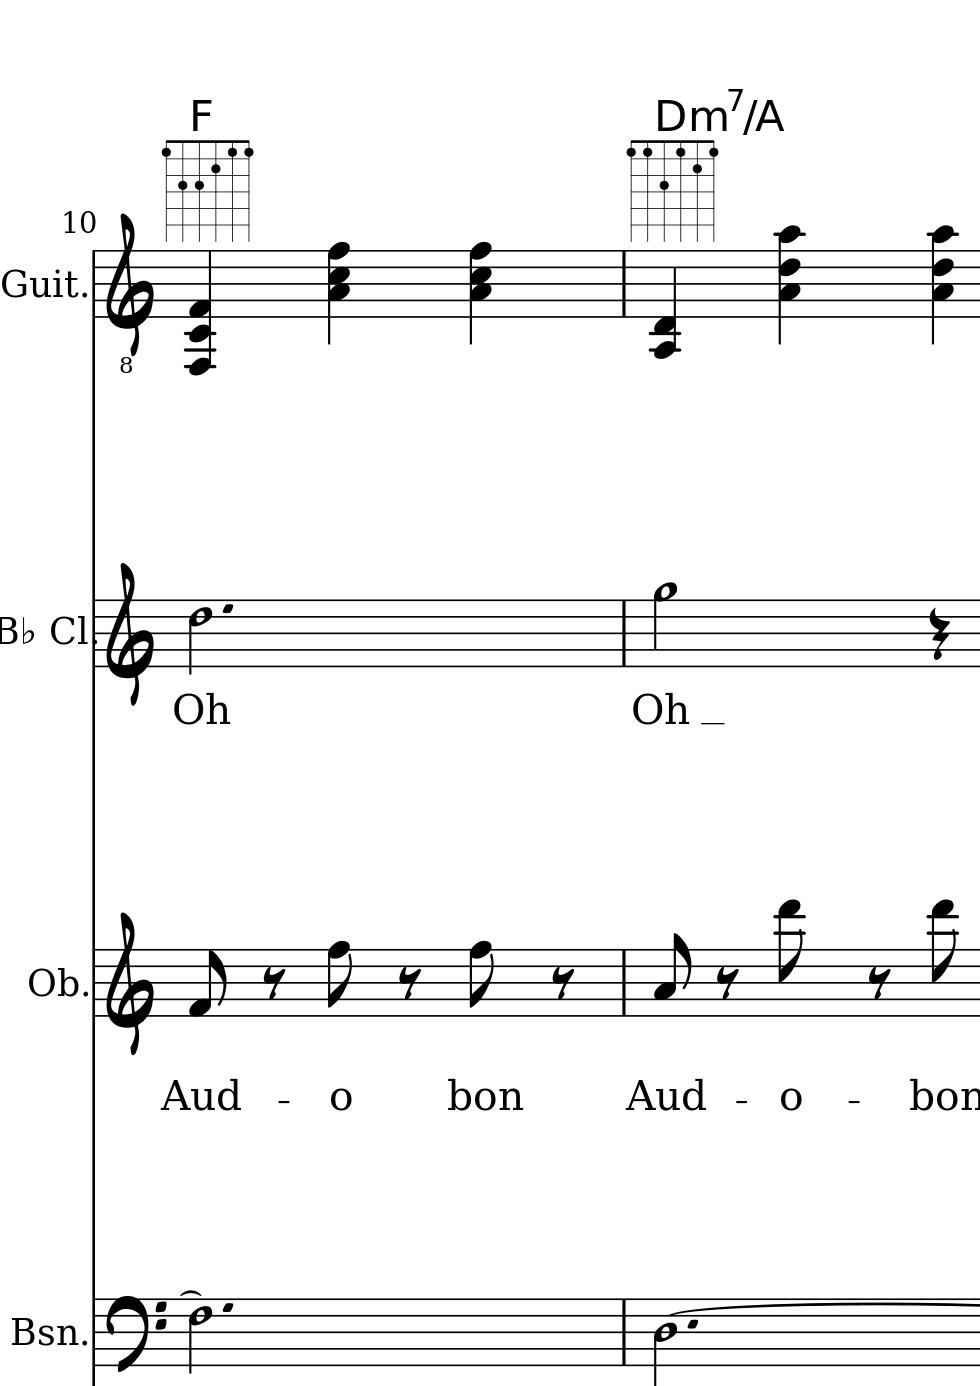0: (78, 207, 97, 238)
1: (62, 208, 77, 239)
2_4: (650, 1295, 677, 1386)
2_6: (187, 1297, 213, 1376), (187, 598, 213, 677)
2_9: (652, 581, 679, 671)
4_-4_-1: (649, 248, 682, 359)
4_th: (183, 250, 218, 378), (770, 225, 806, 346), (925, 224, 960, 345), (466, 241, 492, 345), (323, 242, 350, 344)
8_1: (189, 949, 227, 1017)
8_13: (927, 897, 959, 1019), (774, 898, 805, 1020)
8_3: (652, 931, 692, 1019)
8_8: (325, 940, 353, 1019), (467, 940, 495, 1019)
Bsn: (8, 1312, 80, 1352)
Cl: (48, 611, 87, 647)
Fclef: (104, 1293, 169, 1373)
Fretboard: (623, 133, 718, 243), (160, 135, 253, 244)
Gclef: (104, 561, 155, 706)
Guit: (2, 264, 80, 308)
Lower_Gclef: (103, 211, 156, 378)
Ob: (28, 963, 78, 1003)
Rests4: (927, 606, 950, 663)
Rests8: (395, 964, 422, 1001), (712, 966, 740, 1000), (260, 964, 287, 999), (549, 965, 576, 1001), (865, 966, 892, 1001)
Single_barline: (614, 949, 632, 1016), (616, 599, 633, 668), (86, 949, 103, 1018), (616, 1298, 633, 1366), (86, 1299, 102, 1366), (615, 252, 631, 317), (87, 599, 102, 668), (87, 250, 99, 318)
dot: (218, 1301, 235, 1314), (685, 1318, 699, 1333), (220, 602, 235, 615)
